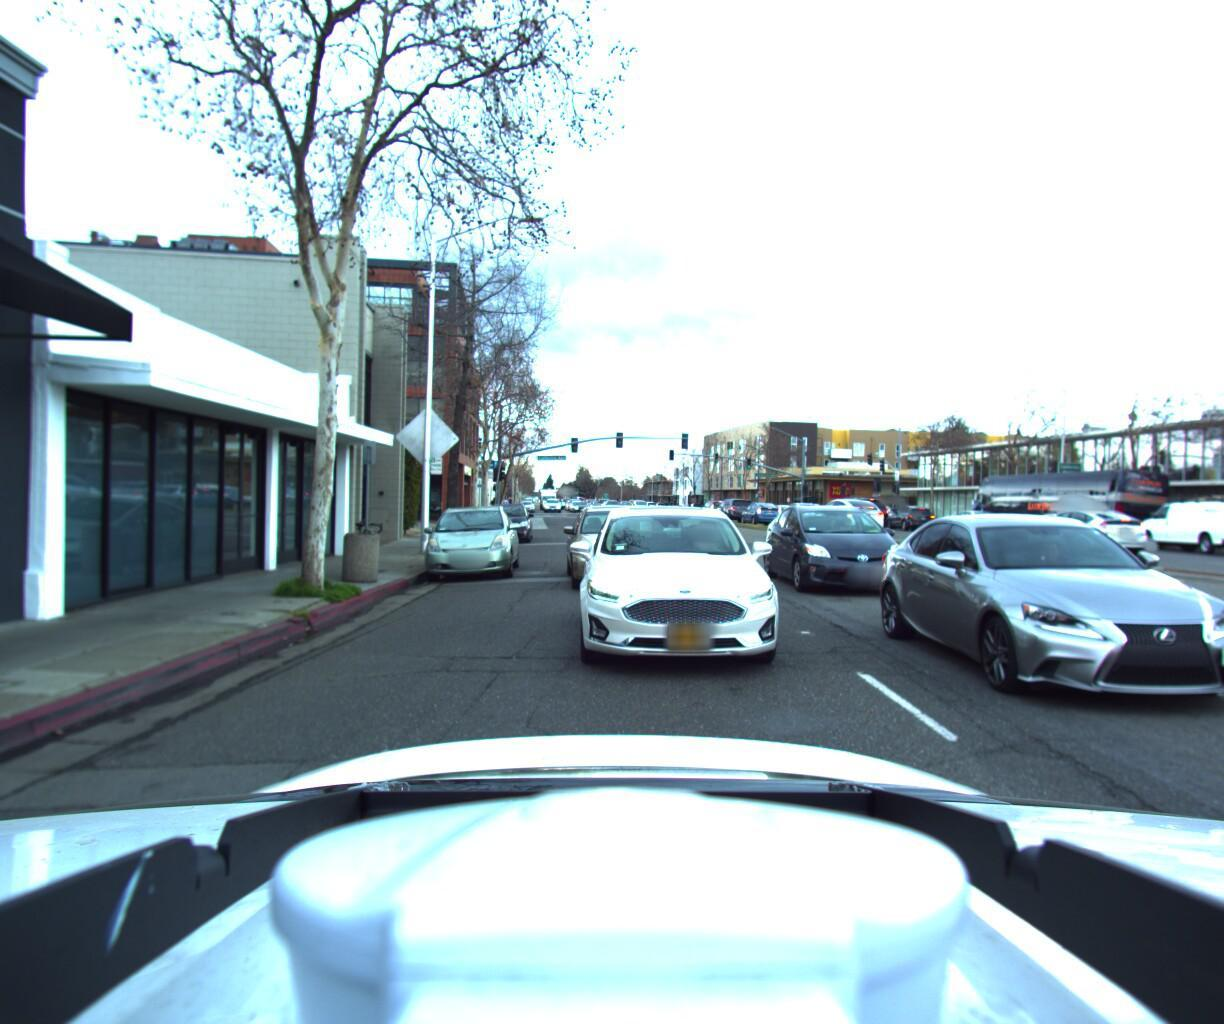bus: (966, 466, 1179, 548), (1129, 486, 1224, 559)
car: (850, 506, 1224, 730), (562, 495, 807, 679), (753, 497, 929, 596), (557, 499, 681, 596), (409, 500, 529, 585), (1021, 498, 1152, 555), (1007, 508, 1113, 549), (810, 492, 890, 534), (476, 495, 535, 544), (939, 506, 1014, 540), (776, 498, 835, 527), (735, 501, 786, 530), (884, 505, 938, 531), (713, 497, 753, 523), (700, 497, 731, 520)
